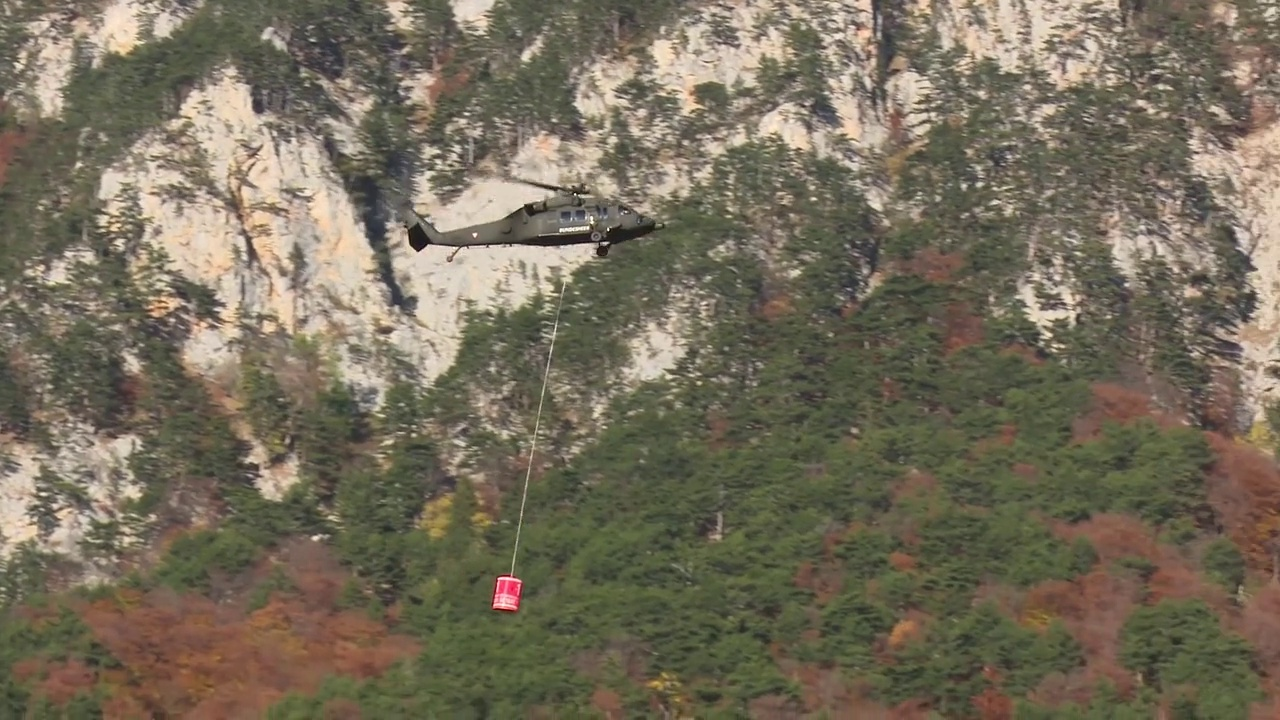heli: (403, 167, 664, 258)
